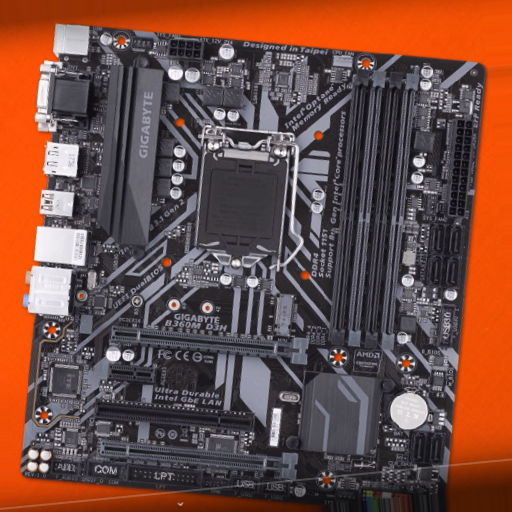CPU: (190, 121, 297, 288)
GPU: (98, 441, 299, 483), (108, 326, 307, 366), (93, 399, 254, 435)
MOTHERBOARD: (21, 22, 483, 509)
RAM: (326, 73, 422, 350)
SSD: (273, 296, 297, 337), (269, 407, 291, 449)
